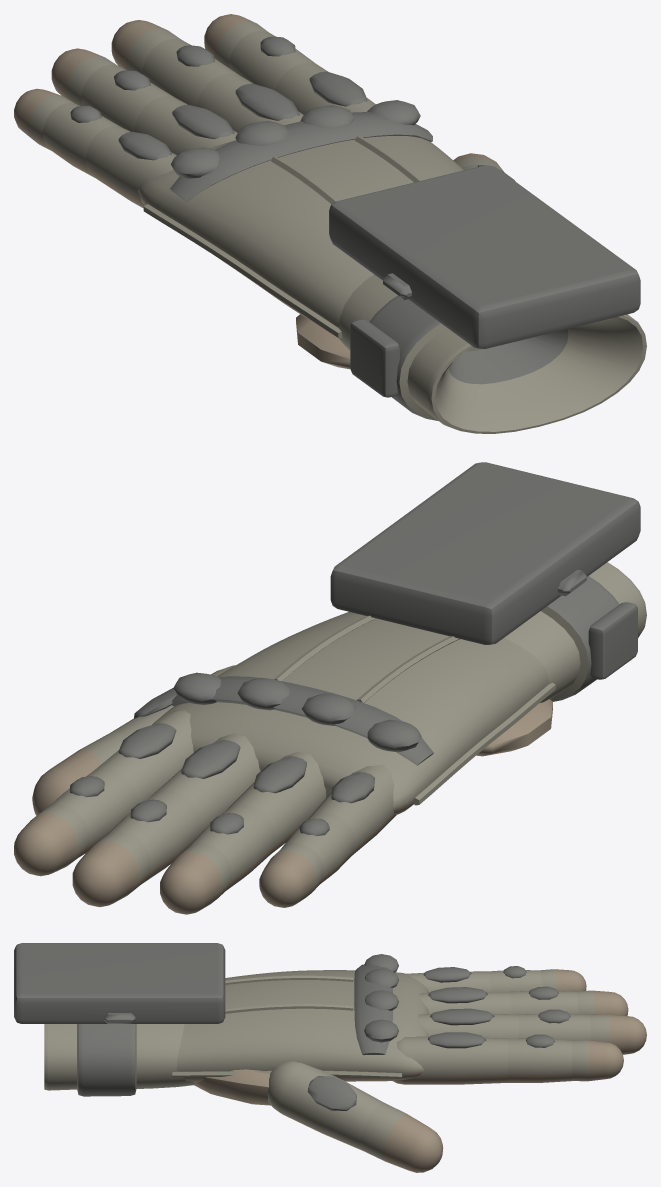
Rendered from glove_left.glb.
3 renders of one model, top to bottom at view 1: azimuth 30°, elevation 25°; view 2: azimuth 150°, elevation 25°; view 3: azimuth 270°, elevation 25°, orthographic. The views are drawn at different scales.
Visible parts, largest first — view 1: palm, finger_3_0, finger_2_0, finger_1_0, finger_1_1, finger_2_1, finger_0_0, finger_0_1, finger_3_1, finger_1_2, finger_2_2, finger_3_2 (+1 smaller); view 2: palm, finger_1_0, finger_2_0, finger_0_0, finger_1_2, finger_1_1, finger_3_0, finger_0_2, finger_2_2, finger_2_1, finger_0_1, finger_3_2 (+3 smaller); view 3: palm, finger_4_0, finger_0_0, finger_4_1, finger_0_1, finger_1_0, finger_2_0, finger_0_2, finger_1_1, finger_1_2, finger_2_1, finger_3_0 (+3 smaller).
Part boxes in pixels (x1,y1,x2,y2): palm: [138, 100, 646, 433]; finger_3_0: [86, 126, 176, 208]; finger_2_0: [134, 96, 237, 154]; finger_1_0: [196, 73, 303, 132]; finger_1_1: [142, 38, 238, 106]; finger_2_1: [81, 64, 173, 131]; finger_0_0: [275, 62, 375, 114]; finger_0_1: [229, 30, 316, 90]; finger_3_1: [43, 103, 120, 177]; finger_1_2: [111, 20, 181, 74]; finger_2_2: [51, 48, 117, 105]; finger_3_2: [14, 88, 74, 150]; palm: [152, 462, 646, 814]; finger_1_0: [151, 733, 260, 831]; finger_2_0: [226, 751, 325, 853]; finger_0_0: [95, 709, 193, 803]; finger_1_2: [72, 831, 150, 907]; finger_1_1: [104, 790, 201, 883]; finger_3_0: [308, 764, 396, 856]; finger_0_2: [14, 804, 89, 876]; finger_2_2: [160, 843, 231, 914]; finger_2_1: [186, 804, 275, 890]; finger_0_1: [47, 768, 137, 856]; finger_3_2: [259, 843, 323, 907]; palm: [14, 943, 429, 1105]; finger_4_0: [267, 1061, 383, 1150]; finger_0_0: [393, 1032, 507, 1084]; finger_4_1: [360, 1102, 443, 1172]; finger_0_1: [508, 1034, 572, 1082]; finger_1_0: [417, 1008, 518, 1038]; finger_2_0: [419, 987, 511, 1014]; finger_0_2: [572, 1040, 623, 1081]; finger_1_1: [518, 1009, 590, 1040]; finger_1_2: [590, 1014, 646, 1054]; finger_2_1: [510, 986, 578, 1014]; finger_3_0: [405, 967, 491, 992].
Bounding box in the file's own units: 0.1168 × 0.057 × 0.2454.
